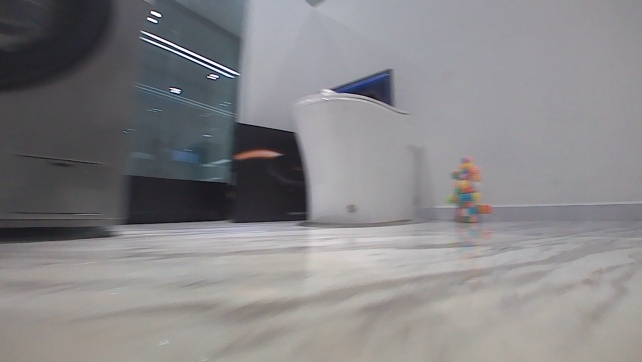toilet: (288, 90, 413, 230)
washing_machine1: (1, 0, 145, 238)
